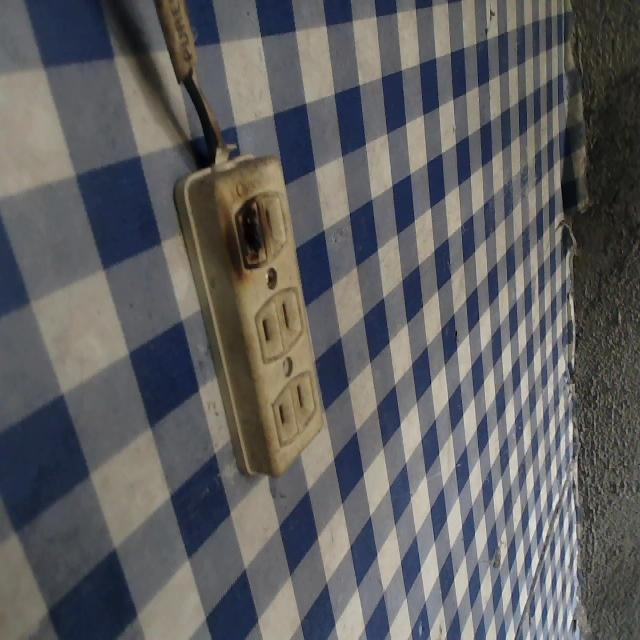-: (225, 192, 274, 273)
